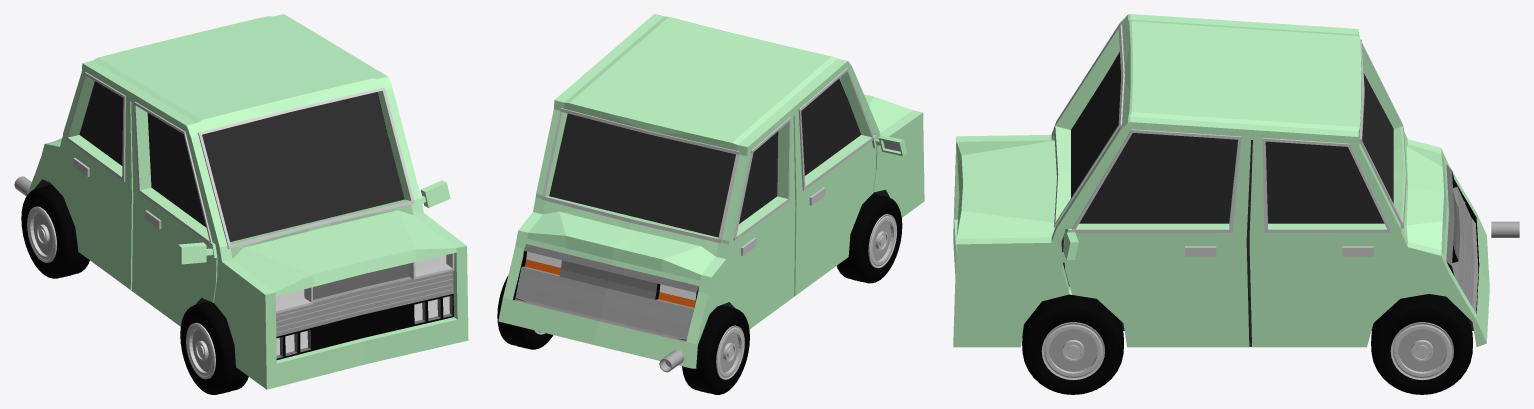
File: CR-CAR-21.fbx
3 views of the same model, side by side, from view 1: azimuth 30°, elevation 25°; view 2: azimuth 150°, elevation 25°; view 3: azimuth 270°, elevation 25° (orthographic). The views are drawn at different scales.
Visible parts, largest first — view 1: BODY, WHEEL.001, WHEEL.004; view 2: BODY, WHEEL.004, WHEEL.001, WHEEL.002; view 3: BODY, WHEEL.002, WHEEL.003, SHACMAN.
Boxes of the visible parts, x1=… form: BODY: x1=27, y1=14, x2=468, y2=389; WHEEL.001: x1=180, y1=301, x2=248, y2=394; WHEEL.004: x1=21, y1=185, x2=89, y2=278; BODY: x1=498, y1=14, x2=924, y2=368; WHEEL.004: x1=682, y1=305, x2=749, y2=394; WHEEL.001: x1=837, y1=193, x2=902, y2=283; WHEEL.002: x1=497, y1=275, x2=553, y2=349; BODY: x1=953, y1=14, x2=1489, y2=347; WHEEL.002: x1=1371, y1=294, x2=1472, y2=394; WHEEL.003: x1=1022, y1=294, x2=1123, y2=394; SHACMAN: x1=1491, y1=221, x2=1519, y2=237.
Size of the model in its own units: 131 by 115 by 217.
